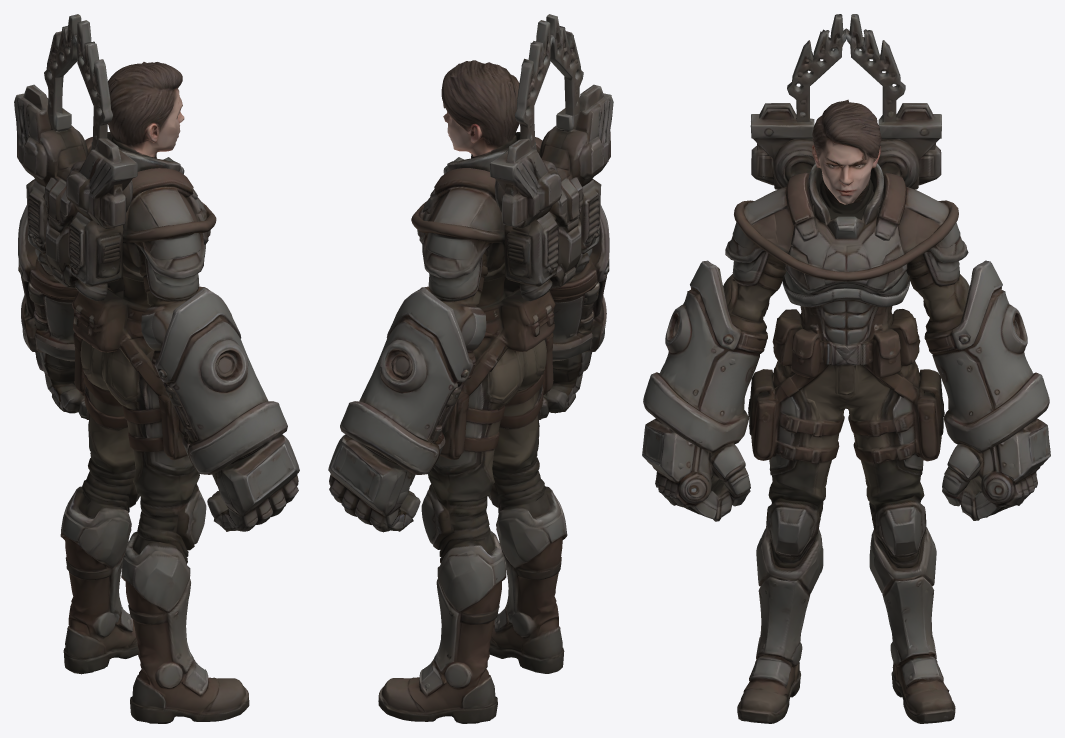
Rendered from sarah.glb.
The picture shows the model from 3 angles, left to right: view 1: azimuth 30°, elevation 25°; view 2: azimuth 150°, elevation 25°; view 3: azimuth 270°, elevation 25°; orthographic projection. The views are drawn at different scales.
Parts seen in each view (by area): view 1: tripo_node_f716c3c3-0769-4613-a11e-7fd86d41aa9e; view 2: tripo_node_f716c3c3-0769-4613-a11e-7fd86d41aa9e; view 3: tripo_node_f716c3c3-0769-4613-a11e-7fd86d41aa9e.
Part boxes in pixels (x1,y1,x2,y2): tripo_node_f716c3c3-0769-4613-a11e-7fd86d41aa9e: (14, 14, 299, 723); tripo_node_f716c3c3-0769-4613-a11e-7fd86d41aa9e: (328, 14, 613, 723); tripo_node_f716c3c3-0769-4613-a11e-7fd86d41aa9e: (642, 14, 1050, 723).
Bounding box in the file's own units: 0.246 × 0.9799 × 0.5523.
Materials: 1 (1 with a texture image).
